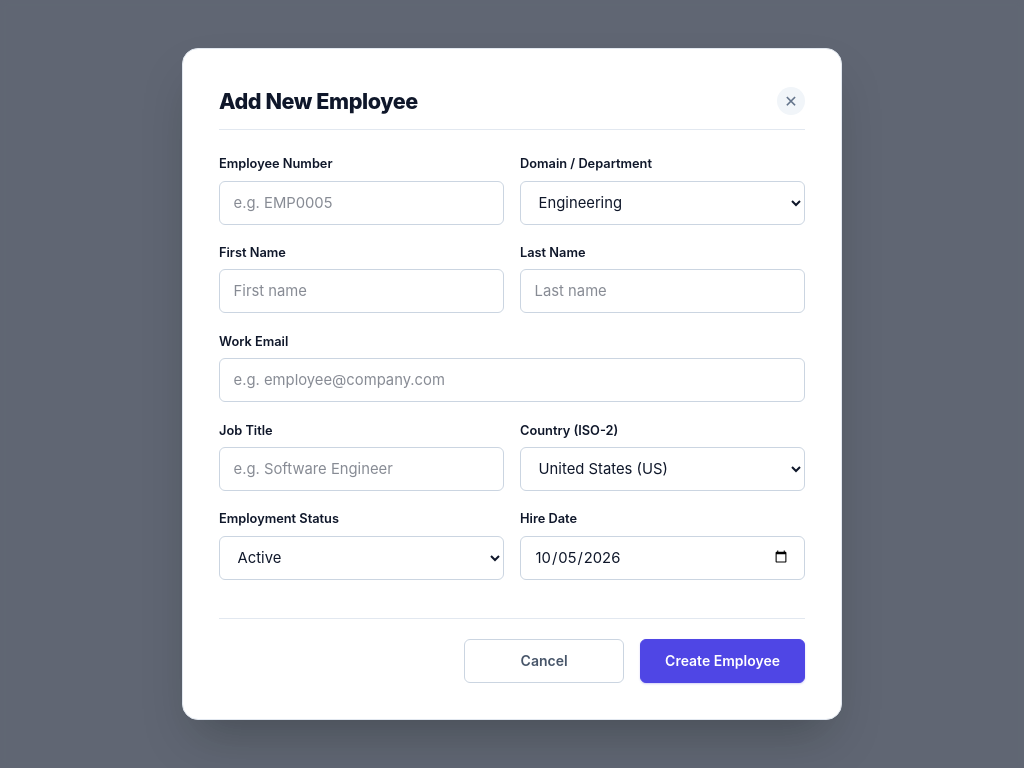
Test: CreateEmployeeModal Component › displays error banner when API throws an error
Type "EMP9999" into the field labelled "Employee Number". click: (362, 203)
box: x1=219 y1=181 x2=504 y2=225
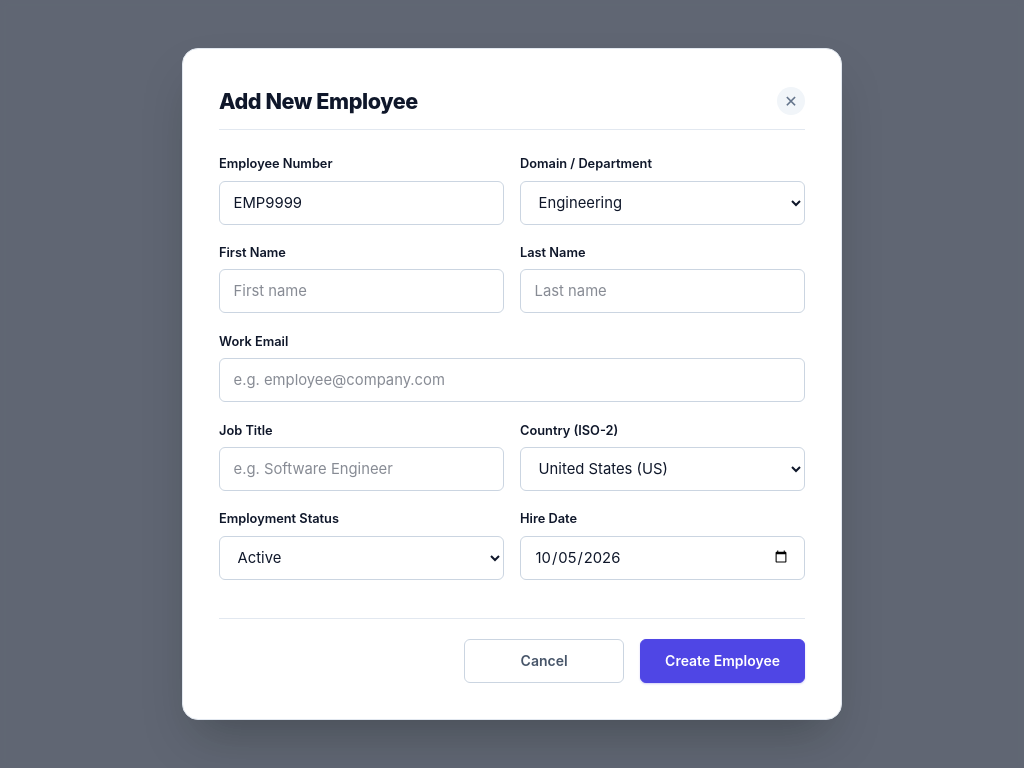
Type "John" into the field labelled "First Name". click: (362, 291)
box: x1=219 y1=269 x2=504 y2=313
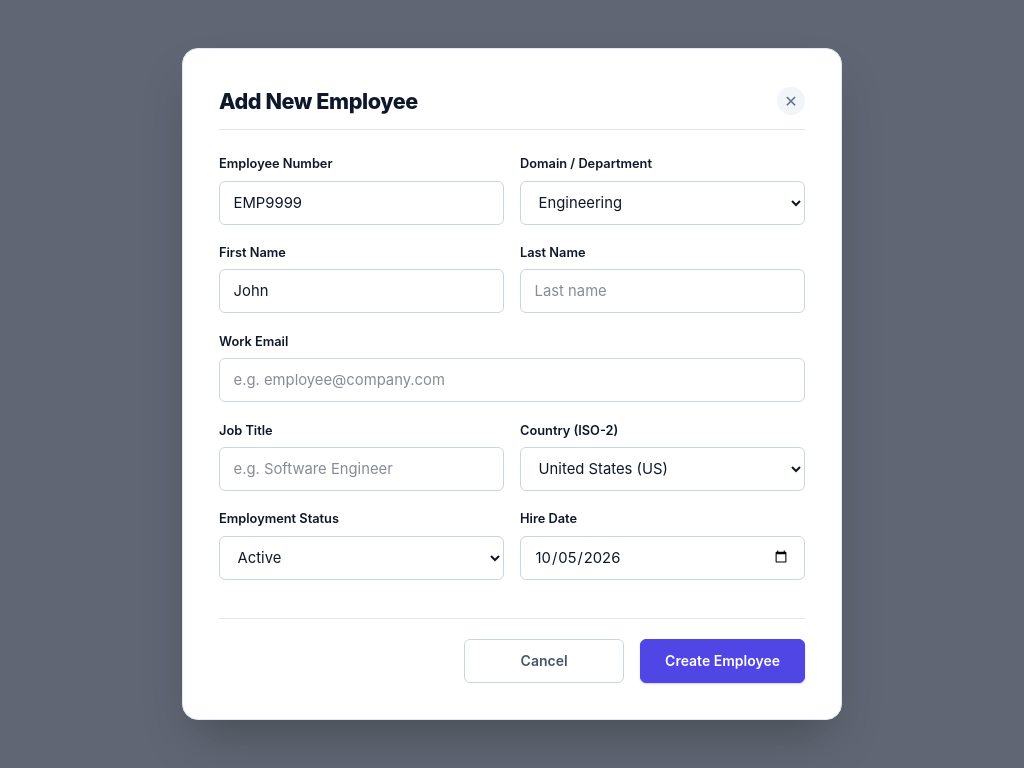
Type "Doe" into the field labelled "Last Name". click: (662, 291)
box: x1=520 y1=269 x2=805 y2=313
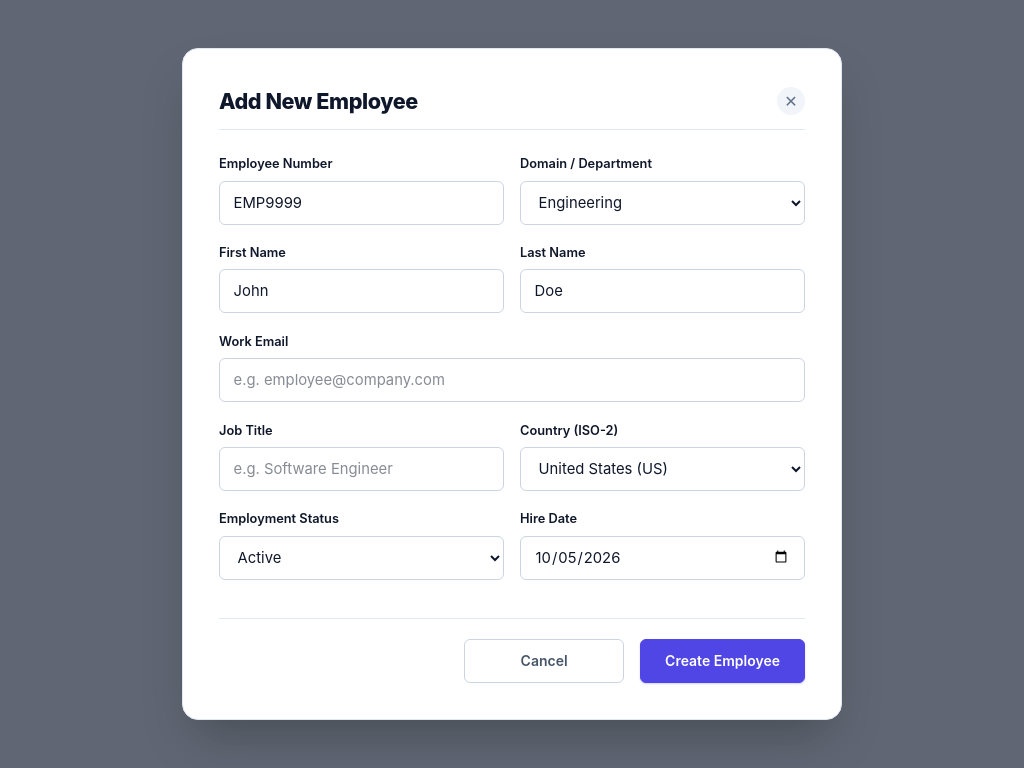
Type "taken@example.com" into the field labelled "Work Email". click: (512, 380)
box: x1=219 y1=358 x2=805 y2=402
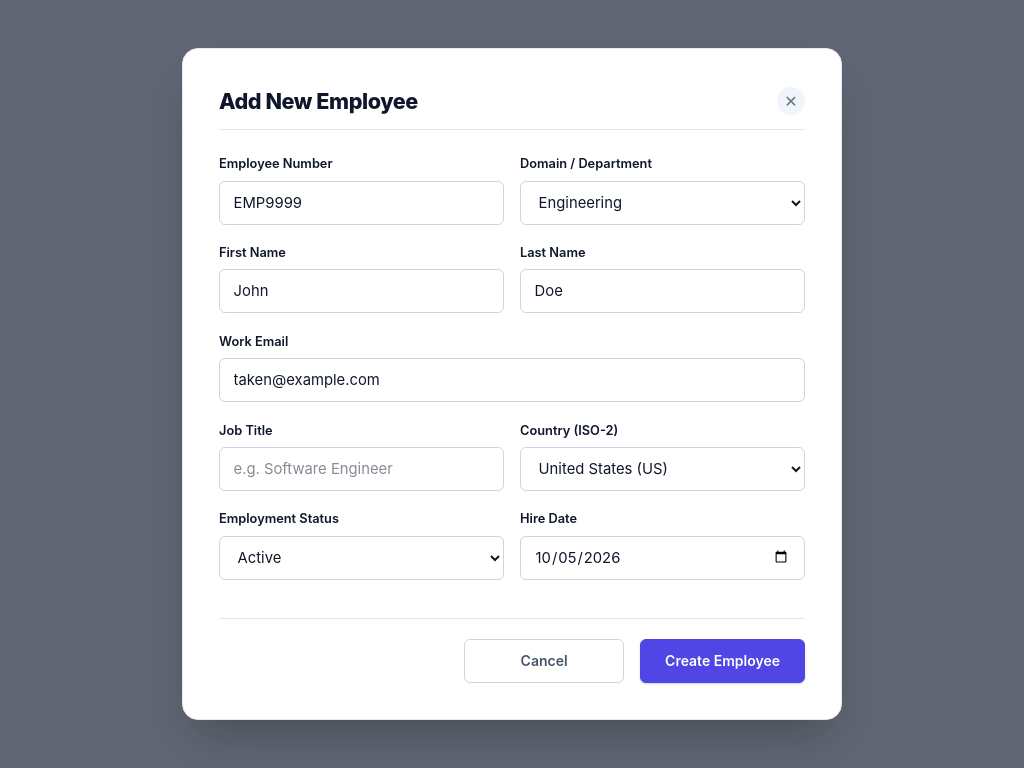
Type "Developer" into the field labelled "Job Title". click: (362, 469)
box: x1=219 y1=447 x2=504 y2=491
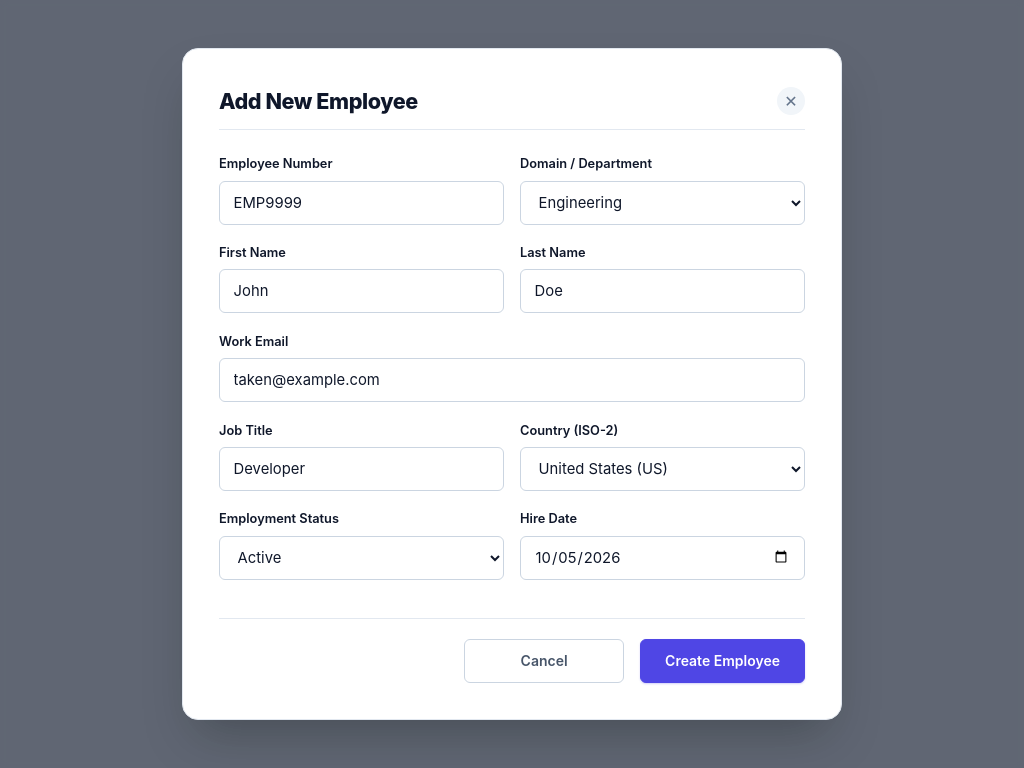
Click the button "Create Employee". click: (723, 661)
box: x1=640 y1=639 x2=805 y2=683
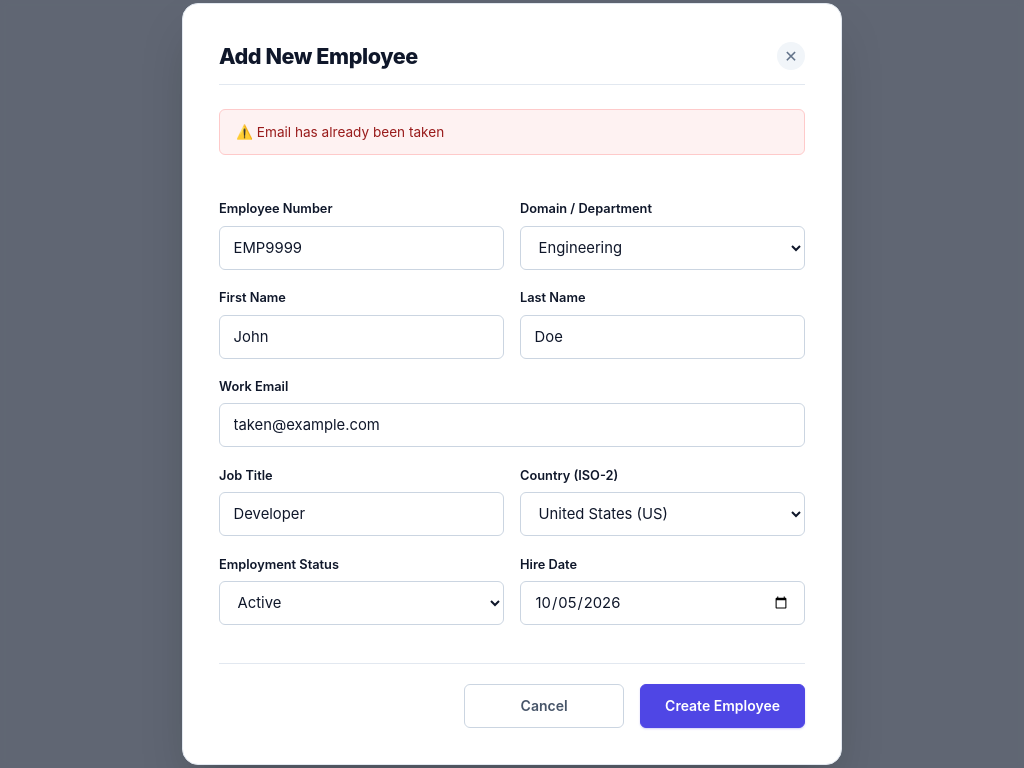
Expected: the message shows "Email has already been taken", x1=257 y1=124 x2=444 y2=140
